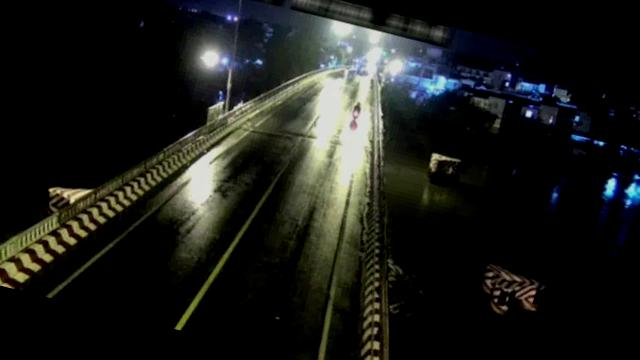Bike: (346, 100, 364, 124)
